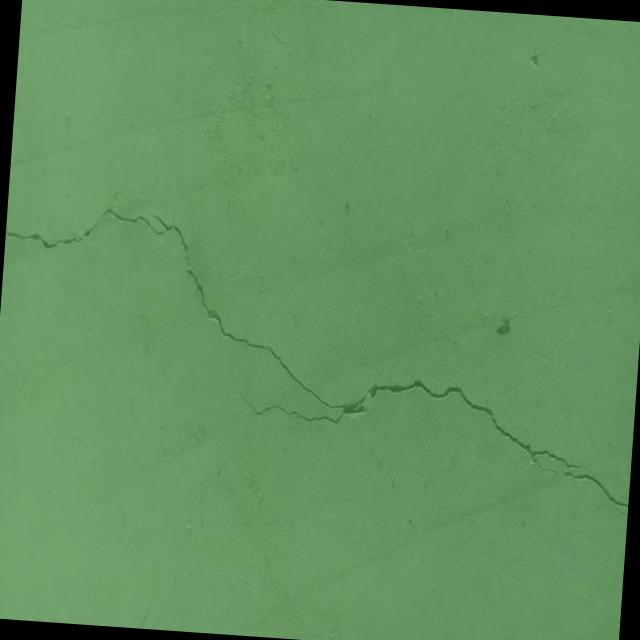crack: (0, 199, 640, 568), (139, 588, 174, 630), (169, 557, 186, 589), (614, 506, 628, 516), (369, 402, 376, 412)
